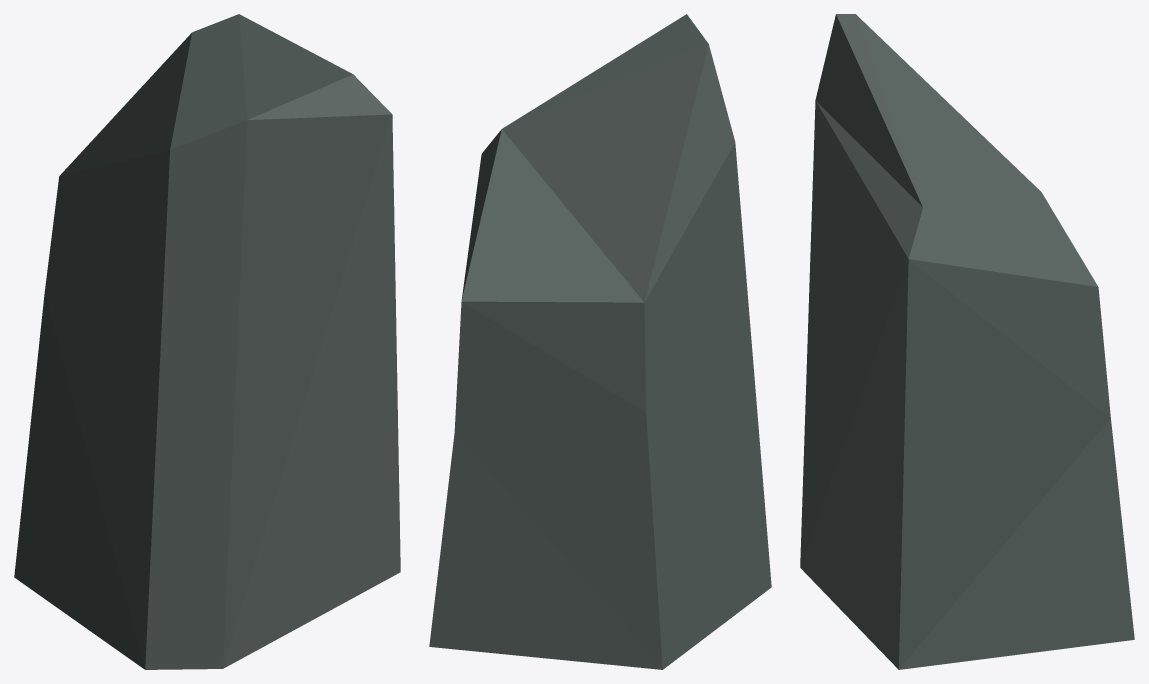
File: SM_Rock_G.glb
The picture shows the model from 3 angles, left to right: view 1: azimuth 30°, elevation 25°; view 2: azimuth 150°, elevation 25°; view 3: azimuth 270°, elevation 25°; orthographic projection. The views are drawn at different scales.
Parts seen in each view (by area): view 1: SM_Rock_G; view 2: SM_Rock_G; view 3: SM_Rock_G.
Part boxes in pixels (box(x1,y1,x2,y2)): SM_Rock_G: box(14, 14, 400, 669); SM_Rock_G: box(429, 14, 771, 669); SM_Rock_G: box(800, 14, 1134, 669).
Size of the model in its own units: 0.6412 by 1.31 by 0.6981.
Materials: 1 (1 with a texture image).
